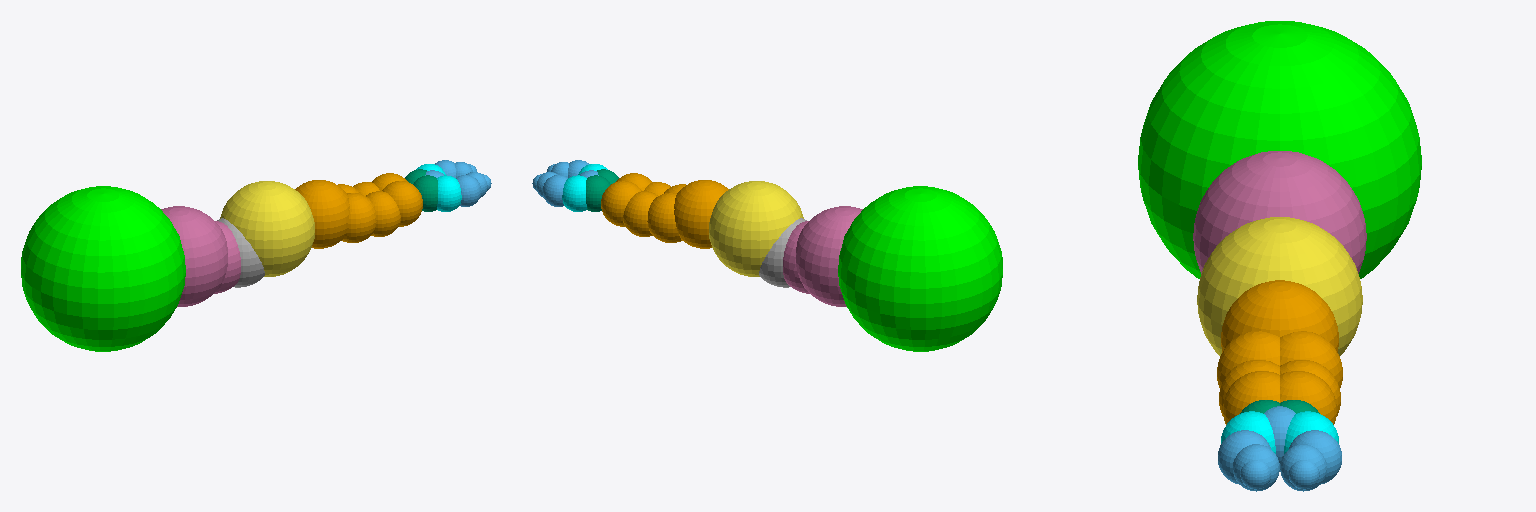
--- What the picture shows (computed from the rendered views, not written in the file) ---
3 views of the same robot in one strip: view 1: azimuth 30°, elevation 25°; view 2: azimuth 150°, elevation 25°; view 3: azimuth 270°, elevation 25° (orthographic).
Model spheres with 15 links and 14 joints (9 revolute, 2 continuous, 3 fixed), rooted at torso_lift_link, posed every joint at zero.
Visible links, largest first — view 1: r_shoulder_pan_link, r_forearm_roll_link, r_elbow_flex_link, r_shoulder_lift_link, r_wrist_roll_link, r_upper_arm_roll_link, r_wrist_flex_link; view 2: r_shoulder_pan_link, r_forearm_roll_link, r_elbow_flex_link, r_shoulder_lift_link, r_wrist_roll_link, r_upper_arm_roll_link, r_wrist_flex_link; view 3: r_shoulder_pan_link, r_forearm_roll_link, r_elbow_flex_link, r_shoulder_lift_link, r_wrist_roll_link, r_wrist_flex_link.
Boxes of the visible links, bbox=[...] form: r_shoulder_pan_link: bbox=[21, 186, 185, 351]; r_forearm_roll_link: bbox=[295, 173, 422, 248]; r_elbow_flex_link: bbox=[220, 181, 314, 276]; r_shoulder_lift_link: bbox=[161, 206, 240, 306]; r_wrist_roll_link: bbox=[416, 160, 491, 211]; r_upper_arm_roll_link: bbox=[217, 218, 264, 287]; r_wrist_flex_link: bbox=[405, 169, 437, 211]; r_shoulder_pan_link: bbox=[838, 186, 1002, 351]; r_forearm_roll_link: bbox=[601, 173, 728, 248]; r_elbow_flex_link: bbox=[709, 181, 803, 276]; r_shoulder_lift_link: bbox=[783, 206, 862, 306]; r_wrist_roll_link: bbox=[532, 160, 607, 211]; r_upper_arm_roll_link: bbox=[759, 218, 806, 287]; r_wrist_flex_link: bbox=[586, 169, 618, 211]; r_shoulder_pan_link: bbox=[1138, 21, 1421, 278]; r_forearm_roll_link: bbox=[1217, 280, 1342, 424]; r_elbow_flex_link: bbox=[1197, 217, 1362, 355]; r_shoulder_lift_link: bbox=[1193, 151, 1366, 273]; r_wrist_roll_link: bbox=[1218, 406, 1341, 491]; r_wrist_flex_link: bbox=[1240, 400, 1319, 413].
Bounding box of the posed robot: 1.13 × 0.36 × 0.36 m (x, y, z).
0 mesh visuals loaded from 13 distinct referenced files (none loaded); not drawn: 15 (reference not matched to a file when rendering).

URDF robot description (spheres):
<?xml version="1.0" ?>

<robot name="spheres">

    <joint name="r_shoulder_pan_joint" type="revolute">
        <axis xyz="0 0 1"/>
        <origin rpy="0 0 0" xyz="0.0 -0.188 0.0"/>
        <parent link="torso_lift_link"/>
        <child link="r_shoulder_pan_link"/>
        <limit effort="30" lower="-2.2853981634" upper="0.714601836603" velocity="2.088"/>
        <!-- alpha tested velocity and effort limits -->
        <dynamics damping="10.0"/>
        <safety_controller k_position="100" k_velocity="10" soft_lower_limit="-2.1353981634"
                           soft_upper_limit="0.564601836603"/>
        <!-- joint angle when the rising or the falling flag is activated on PR2 -->
        <calibration rising="-0.785398163397"/>
    </joint>

    <joint name="r_shoulder_lift_joint" type="revolute">
        <axis xyz="0 1 0"/>
        <origin rpy="0 0 0" xyz="0.1 0 0"/>
        <limit effort="30" lower="-0.5236" upper="1.3963" velocity="2.082"/>
        <!-- alpha tested velocity and effort limits -->
        <safety_controller k_position="100" k_velocity="10" soft_lower_limit="-0.3536" soft_upper_limit="1.2963"/>
        <calibration falling="0.0"/>
        <dynamics damping="10.0"/>
        <parent link="r_shoulder_pan_link"/>
        <child link="r_shoulder_lift_link"/>
    </joint>

    <joint name="r_upper_arm_roll_joint" type="revolute">
        <axis xyz="1 0 0"/>
        <origin rpy="0 0 0" xyz="0 0 0"/>
        <limit effort="30" lower="-0.5236" upper="1.3963" velocity="2.082"/>
        <safety_controller k_position="100" k_velocity="10" soft_lower_limit="-0.3536" soft_upper_limit="1.2963"/>
        <calibration rising="-1.57079632679"/>
        <dynamics damping="0.1"/>
        <parent link="r_shoulder_lift_link"/>
        <child link="r_upper_arm_roll_link"/>
    </joint>

    <joint name="r_upper_arm_joint" type="fixed">
        <origin rpy="0 0 0" xyz="0 0 0"/>
        <parent link="r_upper_arm_roll_link"/>
        <child link="r_upper_arm_link"/>
    </joint>

    <joint name="r_elbow_flex_joint" type="revolute">
        <axis xyz="0 1 0"/>
        <origin rpy="0 0 0" xyz="0.4 0 0"/>
        <limit effort="30" lower="-2.3213" upper="0.00" velocity="3.3"/>
        <safety_controller k_position="100" k_velocity="3" soft_lower_limit="-2.1213" soft_upper_limit="-0.15"/>
        <calibration falling="-1.1606"/>
        <parent link="r_upper_arm_link"/>
        <child link="r_elbow_flex_link"/>
    </joint>

    <joint name="r_forearm_joint" type="fixed">
        <origin rpy="0 0 0" xyz="0 0 0"/>
        <!-- transform from parent link to this joint frame -->
        <parent link="r_forearm_roll_link"/>
        <child link="r_forearm_link"/>
    </joint>

    <joint name="r_forearm_roll_joint" type="continuous">
        <axis xyz="1 0 0"/>
        <origin rpy="0 0 0" xyz="0 0 0"/>
        <limit effort="30" velocity="3.6"/>
        <!-- alpha tested velocity and effort limits -->
        <safety_controller k_velocity="1"/>
        <calibration rising="0.0"/>
        <dynamics damping="0.1"/>
        <parent link="r_elbow_flex_link"/>
        <child link="r_forearm_roll_link"/>
    </joint>

    <joint name="r_wrist_flex_joint" type="revolute">
        <axis xyz="0 1 0"/>
        <limit effort="10" lower="-2.18" upper="0.0" velocity="3.078"/>
        <!-- alpha tested velocity and effort limits -->
        <safety_controller k_position="20" k_velocity="4" soft_lower_limit="-2.0" soft_upper_limit="-0.1"/>
        <dynamics damping="0.1"/>
        <calibration falling="-0.5410521"/>
        <origin rpy="0 0 0" xyz="0.321 0 0"/>
        <parent link="r_forearm_link"/>
        <child link="r_wrist_flex_link"/>
    </joint>

    <joint name="r_wrist_roll_joint" type="continuous">
        <axis xyz="1 0 0"/>
        <limit effort="10" velocity="3.6"/>
        <!-- alpha tested velocity and effort limits -->
        <safety_controller k_velocity="2"/>
        <dynamics damping="0.1"/>
        <calibration rising="-1.57079632679"/>
        <origin rpy="0 0 0" xyz="0 0 0"/>
        <parent link="r_wrist_flex_link"/>
        <child link="r_wrist_roll_link"/>
    </joint>

    <joint name="r_gripper_palm_joint" type="fixed">
        <origin rpy="0 0 0" xyz="0 0 0"/>
        <parent link="r_wrist_roll_link"/>
        <child link="r_gripper_palm_link"/>
    </joint>

    <!-- pr2 fingers macro -->
    <!-- Finger proximal digit -->
    <joint name="r_gripper_l_finger_joint" type="revolute">
        <axis xyz="0 0 1"/>
        <!-- limits on passive finger and finger top joints without
             transmission are not enforced by safety controllers.
             The lower/upper limits and are enforced in PR2 simulation and
             effort and velocity limits are ignored. This is also needed because
             these joints are declared revolute rather than continuous.-->
        <limit effort="1000.0" lower="0.0" upper="0.548" velocity="0.5"/>
        <dynamics damping="0.02"/>
        <origin rpy="0 0 0" xyz="0.07691 0.01 0"/>
        <parent link="r_gripper_palm_link"/>
        <child link="r_gripper_l_finger_link"/>
    </joint>

    <joint name="r_gripper_r_finger_joint" type="revolute">
        <axis xyz="0 0 -1"/>
        <origin rpy="0 0 0" xyz="0.07691 -0.01 0"/>
        <!-- limits on passive finger and finger top joints without
             transmission are not enforced by safety controllers.
             The lower/upper limits and are enforced in PR2 simulation and
             effort and velocity limits are ignored. This is also needed because
             these joints are declared revolute rather than continuous.-->
        <limit effort="1000.0" lower="0.0" upper="0.548" velocity="0.5"/>
        <dynamics damping="0.02"/>
        <mimic joint="r_gripper_l_finger_joint" multiplier="1" offset="0"/>
        <parent link="r_gripper_palm_link"/>
        <child link="r_gripper_r_finger_link"/>
    </joint>

    <!-- Finger tip -->
    <joint name="r_gripper_l_finger_tip_joint" type="revolute">
        <axis xyz="0 0 -1"/>
        <origin rpy="0 0 0" xyz="0.09137 0.00495 0"/>
        <!-- limits on passive finger and finger top joints without
             transmission are not enforced by safety controllers.
             The lower/upper limits and are enforced in PR2 simulation and
             effort and velocity limits are ignored. This is also needed because
             these joints are declared revolute rather than continuous.-->
        <limit effort="1000.0" lower="0.0" upper="0.548" velocity="0.5"/>
        <dynamics damping="0.001"/>
        <mimic joint="r_gripper_l_finger_joint" multiplier="1" offset="0"/>
        <parent link="r_gripper_l_finger_link"/>
        <child link="r_gripper_l_finger_tip_link"/>
    </joint>


    <joint name="r_gripper_r_finger_tip_joint" type="revolute">
        <axis xyz="0 0 1"/>
        <origin rpy="0 0 0" xyz="0.09137 -0.00495 0"/>
        <!-- limits on passive finger and finger top joints without
             transmission are not enforced by safety controllers.
             The lower/upper limits and are enforced in PR2 simulation and
             effort and velocity limits are ignored. This is also needed because
             these joints are declared revolute rather than continuous.-->
        <limit effort="1000.0" lower="0.0" upper="0.548" velocity="0.5"/>
        <dynamics damping="0.001"/>
        <mimic joint="r_gripper_l_finger_joint" multiplier="1" offset="0"/>
        <parent link="r_gripper_r_finger_link"/>
        <child link="r_gripper_r_finger_tip_link"/>
    </joint>

    <link name="r_gripper_palm_link">
        <inertial>
            <mass value="0.58007"/>
            <origin rpy="0 0 0" xyz="0.06623 0.00053 -0.00119"/>
            <inertia ixx="0.00035223921" ixy="-0.00001580476" ixz="-0.00000091750" iyy="0.00067741312"
                     iyz="-0.00000059554" izz="0.00086563316"/>
        </inertial>
        <visual>
            <origin rpy="0 0 0" xyz="0 0 0"/>
            <geometry>
                <mesh filename="meshes/gripper_v0/gripper_palm.dae"/>
            </geometry>
            <material name="Red"/>
        </visual>
        <collision>
            <origin rpy="0 0 0" xyz="0 0 0"/>
            <geometry>
                <mesh filename="meshes/gripper_v0/gripper_palm.stl"/>
            </geometry>
        </collision>
    </link>

    <link name="r_upper_arm_link">
        <inertial>
            <!-- NOTE:reflect==-1 for right side, reflect==1 for the left side -->
            <mass value="6.01769"/>
            <origin xyz="0.21398 -0.01621 -0.0002"/>
            <inertia ixx="0.01537748957" ixy="0.00375711247" ixz="-0.00070852914" iyy="0.0747367044" iyz="-0.0001793645"
                     izz="0.07608763307"/>
        </inertial>
        <visual>
            <origin rpy="0 0 0" xyz="0 0 0"/>
            <geometry>
                <mesh filename="meshes/upper_arm_v0/upper_arm.dae"/>
            </geometry>
            <material name="Green"/>
        </visual>
    </link>

    <link name="r_forearm_link">
        <inertial>
            <mass value="2.57968"/>
            <origin xyz="0.18791 -0.00017 -0.00912"/>
            <inertia ixx="0.00364857222" ixy="0.00005215877" ixz="0.00071534842" iyy="0.01507736897"
                     iyz="-0.00001310770" izz="0.01659310749"/>
        </inertial>
        <collision>
            <origin rpy="0 0 0" xyz="0 0 0"/>
            <geometry>
                <mesh filename="meshes/forearm_v0/forearm.stl"/>
            </geometry>
        </collision>
        <visual>
            <origin rpy="0 0 0" xyz="0 0 0"/>
            <geometry>
                <mesh filename="meshes/forearm_v0/forearm.dae"/>
            </geometry>
            <material name="Grey"/>
        </visual>
        <!-- TODO: collision tag should be optional -->
        <collision>
            <origin rpy="0 0 0" xyz="0 0 0"/>
            <geometry>
                <mesh filename="meshes/upper_arm_v0/forearm_roll_L.stl"/>
            </geometry>
        </collision>
    </link>


    <link name="r_elbow_flex_link">
        <inertial>
            <mass value="1.90327"/>
            <origin xyz="0.01014 0.00032 -0.01211"/>
            <inertia ixx="0.00346541989" ixy="0.00004066825" ixz="0.00043171614" iyy="0.00441606455"
                     iyz="-0.00003968914" izz="0.00359156824"/>
        </inertial>
        <visual>
            <origin rpy="0 0 0" xyz="0 0 0"/>
            <geometry>
                <mesh filename="meshes/upper_arm_v0/elbow_flex.dae"/>
            </geometry>
            <material name="first sphere"/>
        </visual>
        <visual>
            <origin xyz="0 0 0" rpy="0 0 0"/>
            <geometry>
                <sphere radius="0.105000"/>
            </geometry>
        </visual>
        <collision>
            <origin rpy="0 0 0" xyz="0 0 0"/>
            <geometry>
                <mesh filename="meshes/upper_arm_v0/elbow_flex.stl"/>
            </geometry>
        </collision>
    </link>

    <!-- maybe this can work as base frame?-->
    <link name="torso_lift_link">
        <inertial>
            <mass value="36.248046"/>
            <origin xyz="-0.1 0 0.0885"/>
            <inertia ixx="2.771653750257" ixy="0.004284522609" ixz="-0.160418504506" iyy="2.510019507959"
                     iyz="0.029664468704" izz="0.526432355569"/>
        </inertial>
        <visual>
            <origin rpy="0 0 0" xyz="-0.0 0 -0.0"/>
            <geometry>
                <mesh filename="meshes/torso_v0/torso_lift.dae"/>
            </geometry>
            <material name="Grey2"/>
        </visual>
        <collision name="torso_lift_collision">
            <origin rpy="0 0 0" xyz="-0.0 0 -0.0"/>
            <geometry>
                <mesh filename="meshes/torso_v0/torso_lift_L.stl"/>
            </geometry>
        </collision>
    </link>

    <link name="r_shoulder_pan_link">
        <inertial>
            <mass value="25.799322"/>
            <origin rpy="0 0 0" xyz="0.0 0.0 0.0"/>
            <inertia ixx="0.866179142480" ixy="-0.06086507933" ixz="-0.12118061183" iyy="0.87421714893"
                     iyz="-0.05886609911" izz="0.27353821674"/>
        </inertial>
        <visual>
            <origin rpy="0 0 0" xyz="0 0 0"/>
            <geometry>
                <mesh filename="meshes/shoulder_v0/shoulder_pan.dae"/>
            </geometry>
            <material name="Blue"/>
        </visual>
        <visual>
            <origin rpy="0 0 0" xyz="0.09 0 0"/>
            <geometry>
                <sphere radius="0.180000"/>
            </geometry>
            <material name="green">
                <color rgba="0 1 0 1"/>
            </material>
        </visual>
        <collision>
            <origin rpy="0 0 0" xyz="0.0 0 0.0"/>
            <geometry>
                <mesh filename="meshes/shoulder_v0/shoulder_pan.stl"/>
            </geometry>
        </collision>
    </link>

    <link name="r_shoulder_lift_link">
        <inertial>
            <mass value="2.74988"/>
            <origin rpy="0 0 0" xyz="0.02195 -0.02664 -0.03127"/>
            <inertia ixx="0.02105584615" ixy="0.00496704022" ixz="-0.00194808955" iyy="0.02127223737"
                     iyz="0.00110425490" izz="0.01975753814"/>
        </inertial>
        <visual>
            <origin rpy="0 0 0" xyz="0 0 0"/>
            <geometry>
                <mesh filename="meshes/shoulder_v0/shoulder_lift.dae"/>
            </geometry>
            <material name="first sphere"/>
        </visual>
        <visual>
            <origin xyz="0.18 0 -0.015" rpy="0 0 0"/>
            <geometry>
                <sphere radius="0.110000"/>
            </geometry>
        </visual>

        <visual>
            <origin xyz="0.26 0 -0.035" rpy="0 0 0"/>
            <geometry>
                <sphere radius="0.080000"/>
            </geometry>
        </visual>

        <collision>
            <origin rpy="0 0 0" xyz="0.0 0 0.0"/>
            <geometry>
                <mesh filename="meshes/shoulder_v0/shoulder_pan.stl"/>
            </geometry>
        </collision>
    </link>

    <link name="r_upper_arm_roll_link">
        <inertial>
            <!-- dummy mass, to be removed -->
            <mass value="0.1"/>
            <origin rpy="0 0 0" xyz="0 0 0"/>
            <inertia ixx="0.01" ixy="0.00" ixz="0.00" iyy="0.01" iyz="0.00" izz="0.01"/>
        </inertial>
        <visual>
            <!-- TODO: This component doesn't actually have a mesh -->
            <origin rpy="0 0 0" xyz="0 0 0"/>
            <geometry>
                <mesh filename="meshes/shoulder_v0/upper_arm_roll.stl"/>
            </geometry>
            <material name="green"/>
        </visual>

        <visual>
            <origin xyz="0.3275 0 -0.035" rpy="0 0 0"/>
            <geometry>
                <sphere radius="0.080000"/>
            </geometry>
        </visual>

        <collision>
            <origin rpy="0 0 0" xyz="0.0 0 0.0"/>
            <geometry>
                <mesh filename="meshes/shoulder_v0/shoulder_pan.stl"/>
            </geometry>
        </collision>
    </link>

    <link name="r_forearm_roll_link">
        <inertial>
            <!-- dummy masses, to be removed -->
            <mass value="0.1"/>
            <origin xyz="0 0 0"/>
            <inertia ixx="0.01" ixy="0.00" ixz="0.00" iyy="0.01" iyz="0.00" izz="0.01"/>
        </inertial>
        <visual>
            <origin rpy="0 0 0" xyz="0 0 0"/>
            <geometry>
                <mesh filename="meshes/upper_arm_v0/forearm_roll.stl"/>
            </geometry>
            <material name="green"/>
        </visual>
        <visual name="some sphere">
            <origin xyz="0.13 0 0.005" rpy="0 0 0"/>
            <geometry>
                <sphere radius="0.075000"/>
            </geometry>
        </visual>
        <visual>
            <origin xyz="0.200 0.025 -0.01" rpy="0 0 0"/>
            <geometry>
                <sphere radius="0.055000"/>
            </geometry>
        </visual>

        <visual>
            <origin xyz="0.2 -0.025 -0.01" rpy="0 0 0"/>
            <geometry>
                <sphere radius="0.055000"/>
            </geometry>
        </visual>

        <visual>
            <origin xyz="0.265 0.0275 -0.015" rpy="0 0 0"/>
            <geometry>
                <sphere radius="0.050000"/>
            </geometry>
        </visual>

        <visual>
            <origin xyz="0.265 -0.0275 -0.015" rpy="0 0 0"/>
            <geometry>
                <sphere radius="0.050000"/>
            </geometry>
        </visual>

        <visual>
            <origin xyz="0.32 0.0225 -0.005" rpy="0 0 0"/>
            <geometry>
                <sphere radius="0.050000"/>
            </geometry>
        </visual>

        <visual>
            <origin xyz="0.32 -0.0225 -0.005" rpy="0 0 0"/>
            <geometry>
                <sphere radius="0.050000"/>
            </geometry>
        </visual>
        <collision>
            <origin rpy="0 0 0" xyz="0.0 0 0.0"/>
            <geometry>
                <mesh filename="meshes/shoulder_v0/shoulder_pan.stl"/>
            </geometry>
        </collision>
    </link>

    <link name="r_wrist_roll_link">
        <inertial>
            <mass value="0.1"/>
            <origin rpy="0 0 0" xyz="0.0 0.0 0.0"/>
            <inertia ixx="0.01" ixy="0" ixz="0" iyy="0.01" iyz="0" izz="0.01"/>
        </inertial>
        <visual>
            <origin rpy="0 0 0" xyz="0 0 0"/>
            <geometry>
                <mesh filename="meshes/forearm_v0/wrist_roll.stl"/>
            </geometry>
            <material name="green"/>
        </visual>

        <visual>
            <origin xyz="0.0925 0 0" rpy="0 0 0"/>
            <geometry>
                <sphere radius="0.040000"/>
            </geometry>
        </visual>

        <!-- changes -->
        <!-- left finger spheres -->
        <visual>
            <origin xyz="0.1055 0.0350 -0.001" rpy="0 0 0"/>
            <!-- 0   -0.0360    0.1100 -->
            <!-- 0.03 0.025 0 -->
            <geometry>
                <sphere radius="0.040000"/>
            </geometry>
            <material name="first sphere">
                <color rgba="0 1 1 1"/>
            </material>
        </visual>
        <visual>
            <!-- 0.03598 0.01730  -->
            <origin xyz="0.1500 0.044 -0.001" rpy="0 0 0"/>
            <geometry>
                <sphere radius="0.035000"/>
            </geometry>
        </visual>
        <visual>
            <origin xyz="0.1800 0.0300 -0.001" rpy="0 0 0"/>
            <geometry>
                <sphere radius="0.030000"/>
            </geometry>
        </visual>
        <visual>
            <origin xyz="0.2 0.0305 0" rpy="0 0 0"/>
            <geometry>
                <sphere radius="0.020000"/>
            </geometry>
        </visual>

        <!-- right fingers -->
        <visual>
            <origin xyz="0.1055 -0.0350 -0.001" rpy="0 0 0"/>
            <!-- 0   -0.0360    0.1100 -->
            <!-- 0.03 0.025 0 -->
            <geometry>
                <sphere radius="0.040000"/>
            </geometry>
            <material name="first sphere">
                <color rgba="0 1 1 1"/>
            </material>
        </visual>
        <visual>
            <!-- 0.03598 0.01730  -->
            <origin xyz="0.1500 -0.044 -0.001" rpy="0 0 0"/>
            <geometry>
                <sphere radius="0.035000"/>
            </geometry>
        </visual>
        <visual>
            <origin xyz="0.1800 -0.0300 -0.001" rpy="0 0 0"/>
            <geometry>
                <sphere radius="0.030000"/>
            </geometry>
        </visual>
        <visual>
            <origin xyz="0.2 -0.0305 0" rpy="0 0 0"/>
            <geometry>
                <sphere radius="0.020000"/>
            </geometry>
        </visual>
        <collision>
            <origin rpy="0 0 0" xyz="0 0 0"/>
            <geometry>
                <mesh filename="meshes/forearm_v0/wrist_roll_L.stl"/>
            </geometry>
        </collision>
    </link>


    <link name="r_wrist_flex_link">
        <inertial>
            <mass value="0.61402"/>
            <origin xyz="-0.00157 0.0 -0.00075"/>
            <inertia ixx="0.00065165722" ixy="0.00000028864" ixz="0.00000303477" iyy="0.00019824443"
                     iyz="-0.00000022645" izz="0.00064450498"/>
        </inertial>
        <visual>
            <origin rpy="0 0 0" xyz="0 0 0"/>
            <geometry>
                <mesh filename="meshes/forearm_v0/wrist_flex.dae"/>
            </geometry>
            <material name="wrist">
                <color rgba="1 0 0 1"/>
            </material>
        </visual>
        <visual>
            <origin xyz="0.0725 -0.0175 0" rpy="0 0 0"/>
            <geometry>
                <sphere radius="0.040000"/>
            </geometry>
        </visual>

        <visual>
            <origin xyz="0.0725 0.0175 0" rpy="0 0 0"/>
            <geometry>
                <sphere radius="0.040000"/>
            </geometry>
        </visual>
        <collision>
            <origin rpy="0 0 0" xyz="0.0 0 0.0"/>
            <geometry>
                <mesh filename="meshes/forearm_v0/wrist_flex.stl"/>
            </geometry>
        </collision>
    </link>

    <link name="r_gripper_l_finger_link">
        <inertial>
            <mass value="0.17126"/>
            <origin rpy="0 0 0" xyz="0.03598 0.01730 -0.00164"/>
            <inertia ixx="0.00007756198" ixy="0.00000149095" ixz="-0.00000983385" iyy="0.00019708305"
                     iyz="-0.00000306125" izz="0.00018105446"/>
        </inertial>
        <visual>
            <origin rpy="0 0 0" xyz="0 0 0"/>
            <geometry>
                <mesh filename="meshes/gripper_v0/l_finger.dae"/>
            </geometry>
            <material name="Grey"/>
        </visual>
        <collision>
            <origin rpy="0 0 0" xyz="0 0 0"/>
            <geometry>
                <mesh filename="meshes/gripper_v0/l_finger.stl"/>
            </geometry>
        </collision>
    </link>

    <link name="r_gripper_l_finger_tip_link">
        <inertial>
            <mass value="0.04419"/>
            <origin rpy="0 0 0" xyz="0.00423 0.00284 0.0"/>
            <inertia ixx="0.00000837047" ixy="0.00000583632" ixz="0.0" iyy="0.00000987067" iyz="0.0"
                     izz="0.00001541768"/>
        </inertial>
        <visual>
            <origin rpy="0 0 0" xyz="0 0 0"/>
            <geometry>
                <mesh filename="meshes/gripper_v0/l_finger_tip.dae"/>
            </geometry>
            <material name="Green"/>
        </visual>

        <collision>
            <origin rpy="0 0 0" xyz="0.0 0 0.0"/>
            <geometry>
                <mesh filename="meshes/gripper_v0/l_finger_tip.stl"/>
            </geometry>
        </collision>
    </link>

    <link name="r_gripper_r_finger_link">
        <inertial>
            <mass value="0.17389"/>
            <origin rpy="0 0 0" xyz="0.03576 -0.01736 -0.00095"/>
            <inertia ixx="0.00007738410" ixy="-0.00000209309" ixz="-0.00000836228" iyy="0.00019847383"
                     iyz="0.00000246110" izz="0.00018106988"/>
        </inertial>
        <visual>
            <origin rpy="3.14159265359 0 0" xyz="0 0 0"/>
            <geometry>
                <mesh filename="meshes/gripper_v0/l_finger.dae"/>
            </geometry>
            <material name="Grey"/>
        </visual>
        <collision>
            <origin rpy="0 0 0" xyz="0.0 0 0.0"/>
            <geometry>
                <mesh filename="meshes/gripper_v0/l_finger.stl"/>
            </geometry>
        </collision>
    </link>

    <link name="r_gripper_r_finger_tip_link">
        <inertial>
            <mass value="0.04419"/>
            <origin rpy="0 0 0" xyz="0.00423 -0.00284 0.0"/>
            <inertia ixx="0.00000837047" ixy="-0.00000583632" ixz="0.0" iyy="0.00000987067" iyz="0.0"
                     izz="0.00001541768"/>
        </inertial>
        <visual>
            <origin rpy="3.14159265359 0 0" xyz="0 0 0"/>
            <geometry>
                <mesh filename="meshes/gripper_v0/l_finger_tip.dae"/>
            </geometry>
            <material name="Green"/>
        </visual>
        <collision>
            <origin rpy="0 0 0" xyz="0.0 0 0.0"/>
            <geometry>
                <mesh filename="meshes/gripper_v0/l_finger_tip.stl"/>
            </geometry>
        </collision>
    </link>
</robot>
